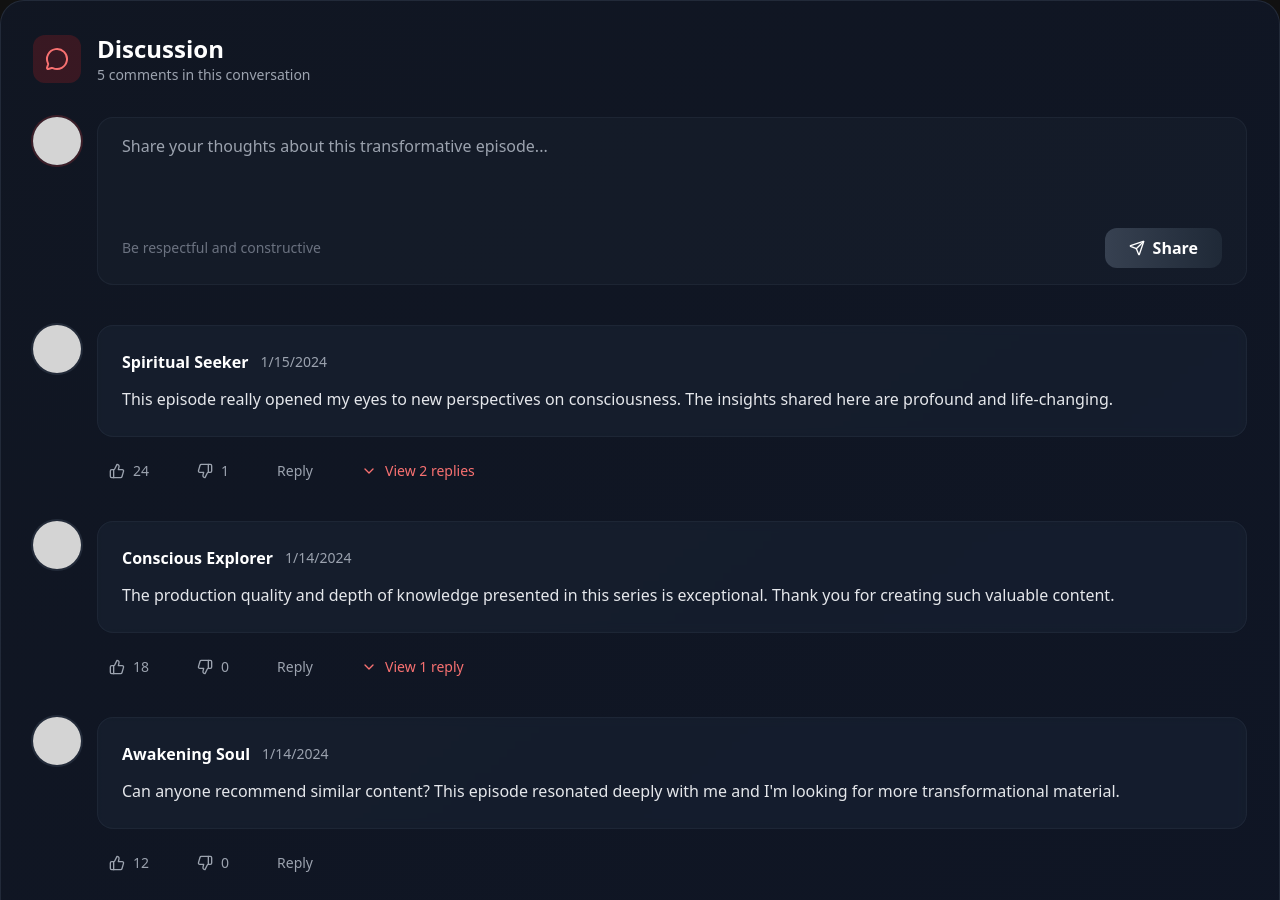
CommentSection › share button disabled when empty, adds a new comment when filled
The image size is (1280, 900).
Expected: the button "Share" is disabled, [1105,228,1222,268]
Step 1. Type "New insight!" into the text box with placeholder "Share your thoughts about this transformative episode..." → (672, 170), box [98,118,1246,222]
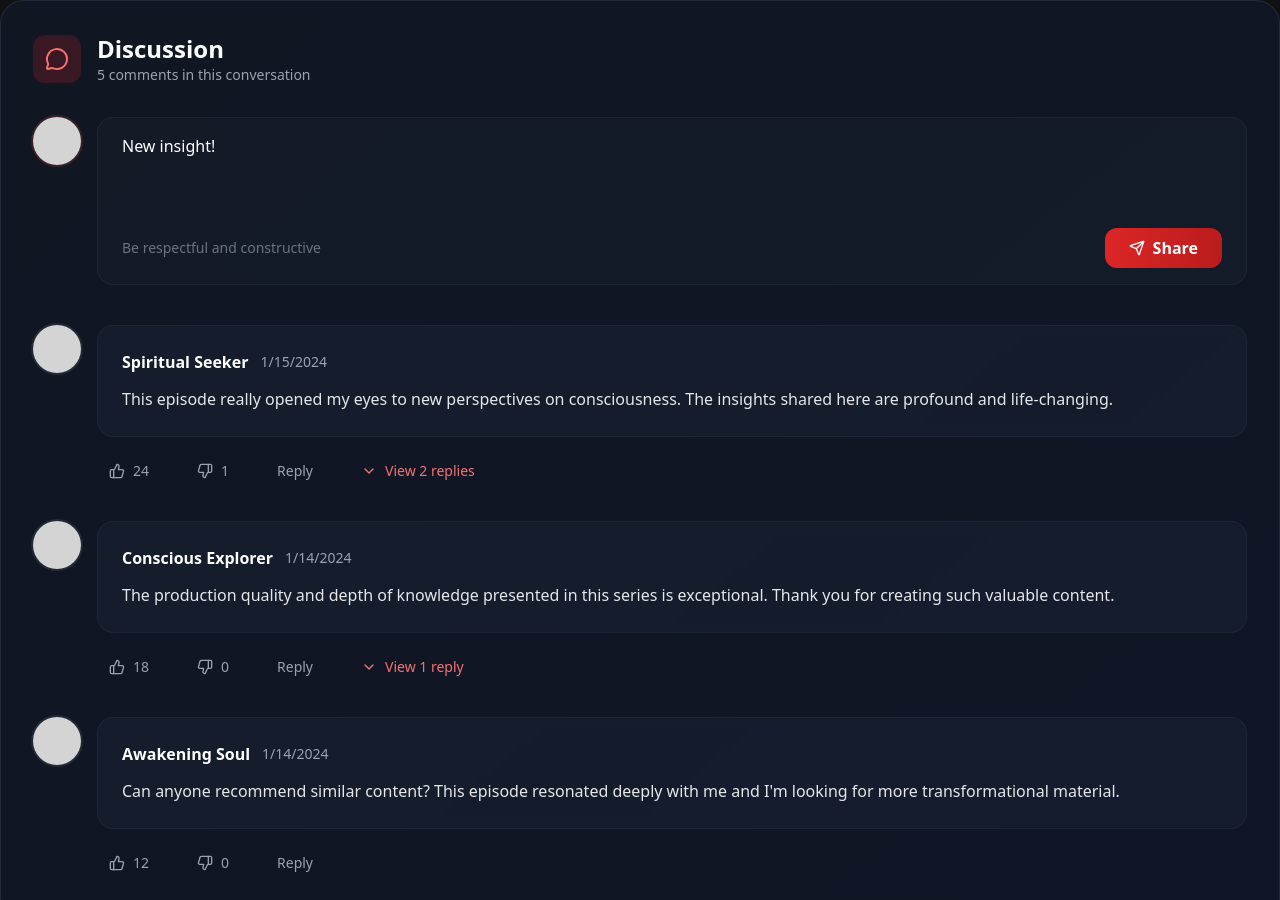
Expected: the button "Share" is enabled
Step 2. Click the button "Share" → (1163, 248), box [1105,228,1222,268]
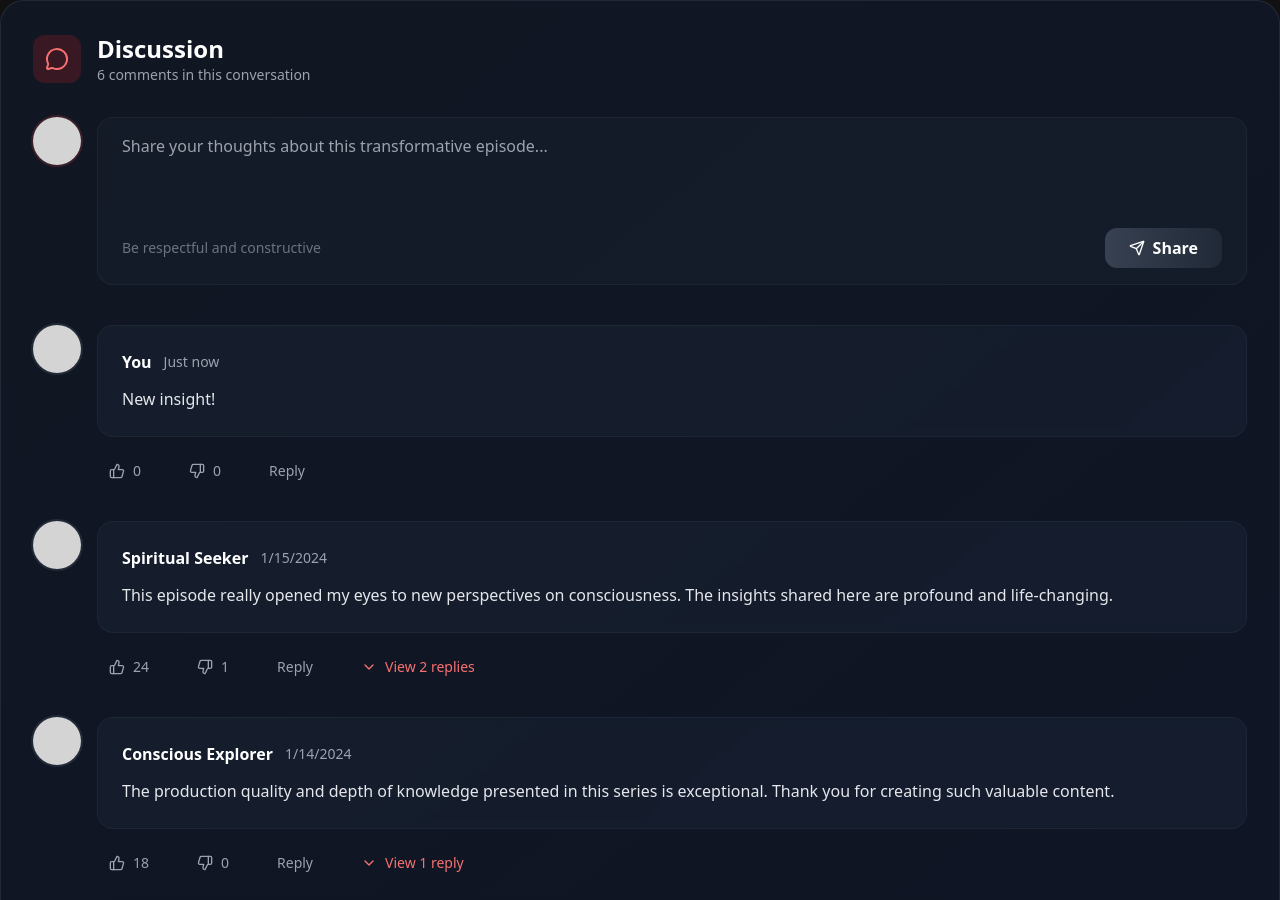
Expected: the text box with placeholder "Share your thoughts about this transformative episode..." is empty, [98,118,1246,222]
Expected: the text "6 comments in this conversation" is shown, [97,65,310,85]
